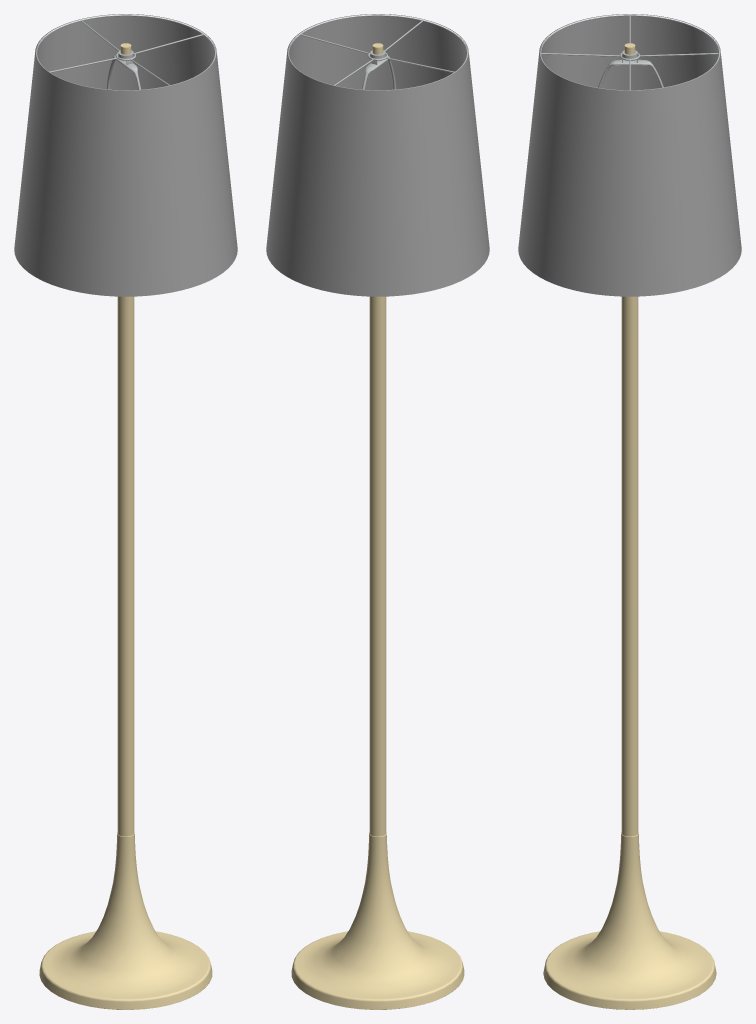
The model's file is abo-B07HKF28GD.glb.
3 views of the same model, side by side, from view 1: azimuth 30°, elevation 25°; view 2: azimuth 150°, elevation 25°; view 3: azimuth 270°, elevation 25° (orthographic).
Size of the model in its own units: 0.337 by 1.54 by 0.337.
1 material, 1 textured.
